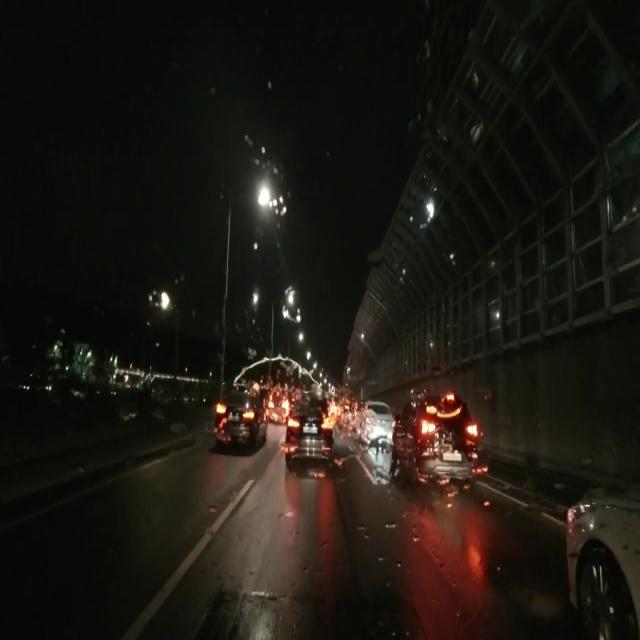Car: (558, 485, 638, 639), (391, 391, 470, 489), (213, 385, 265, 449), (283, 396, 334, 460), (353, 401, 391, 455)
